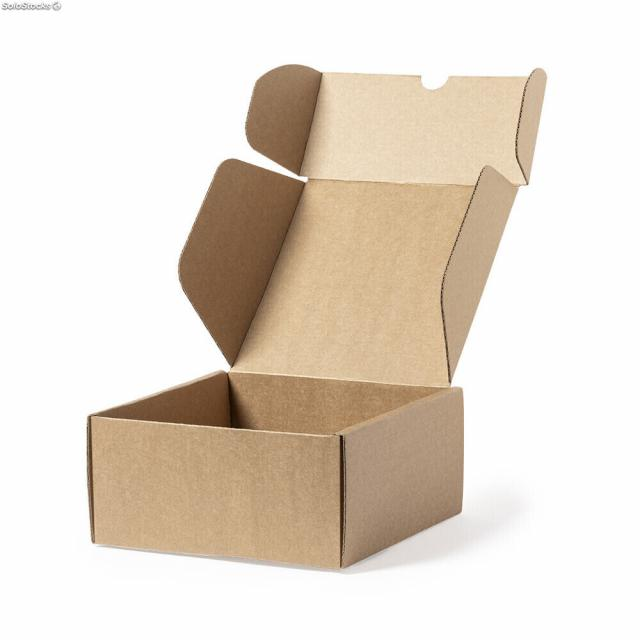Carton: (86, 66, 548, 568)
